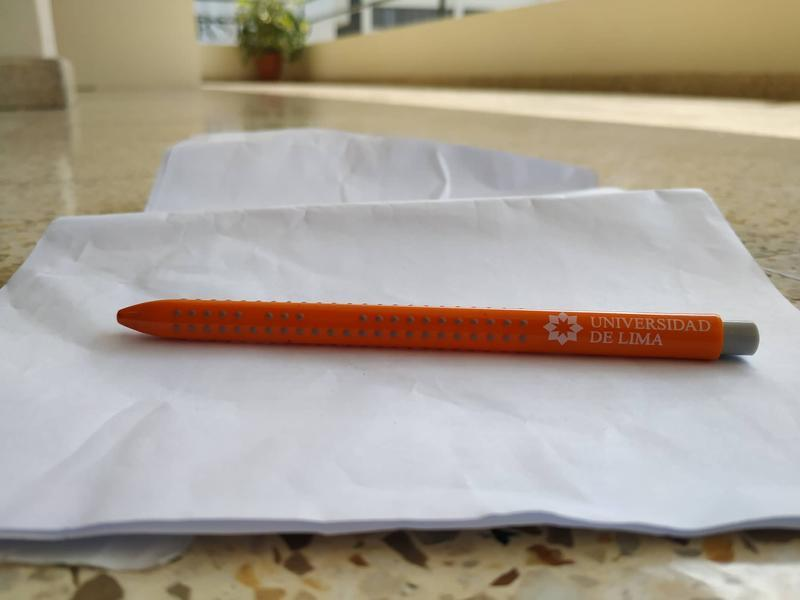qillqana: (106, 283, 765, 379)
